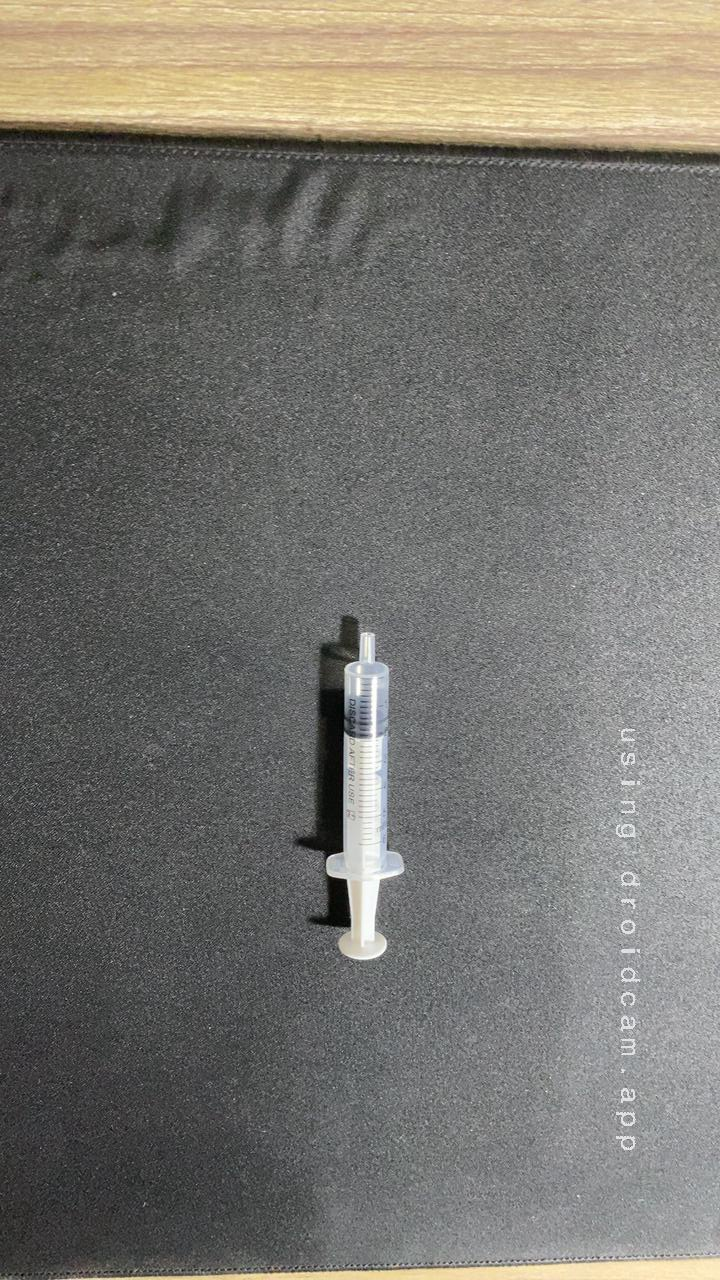syringe: (287, 618, 434, 972)
